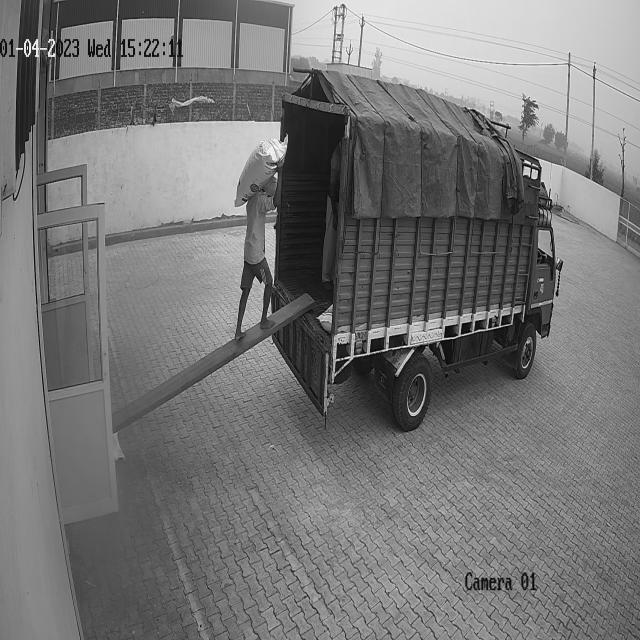sack: (234, 135, 288, 207)
